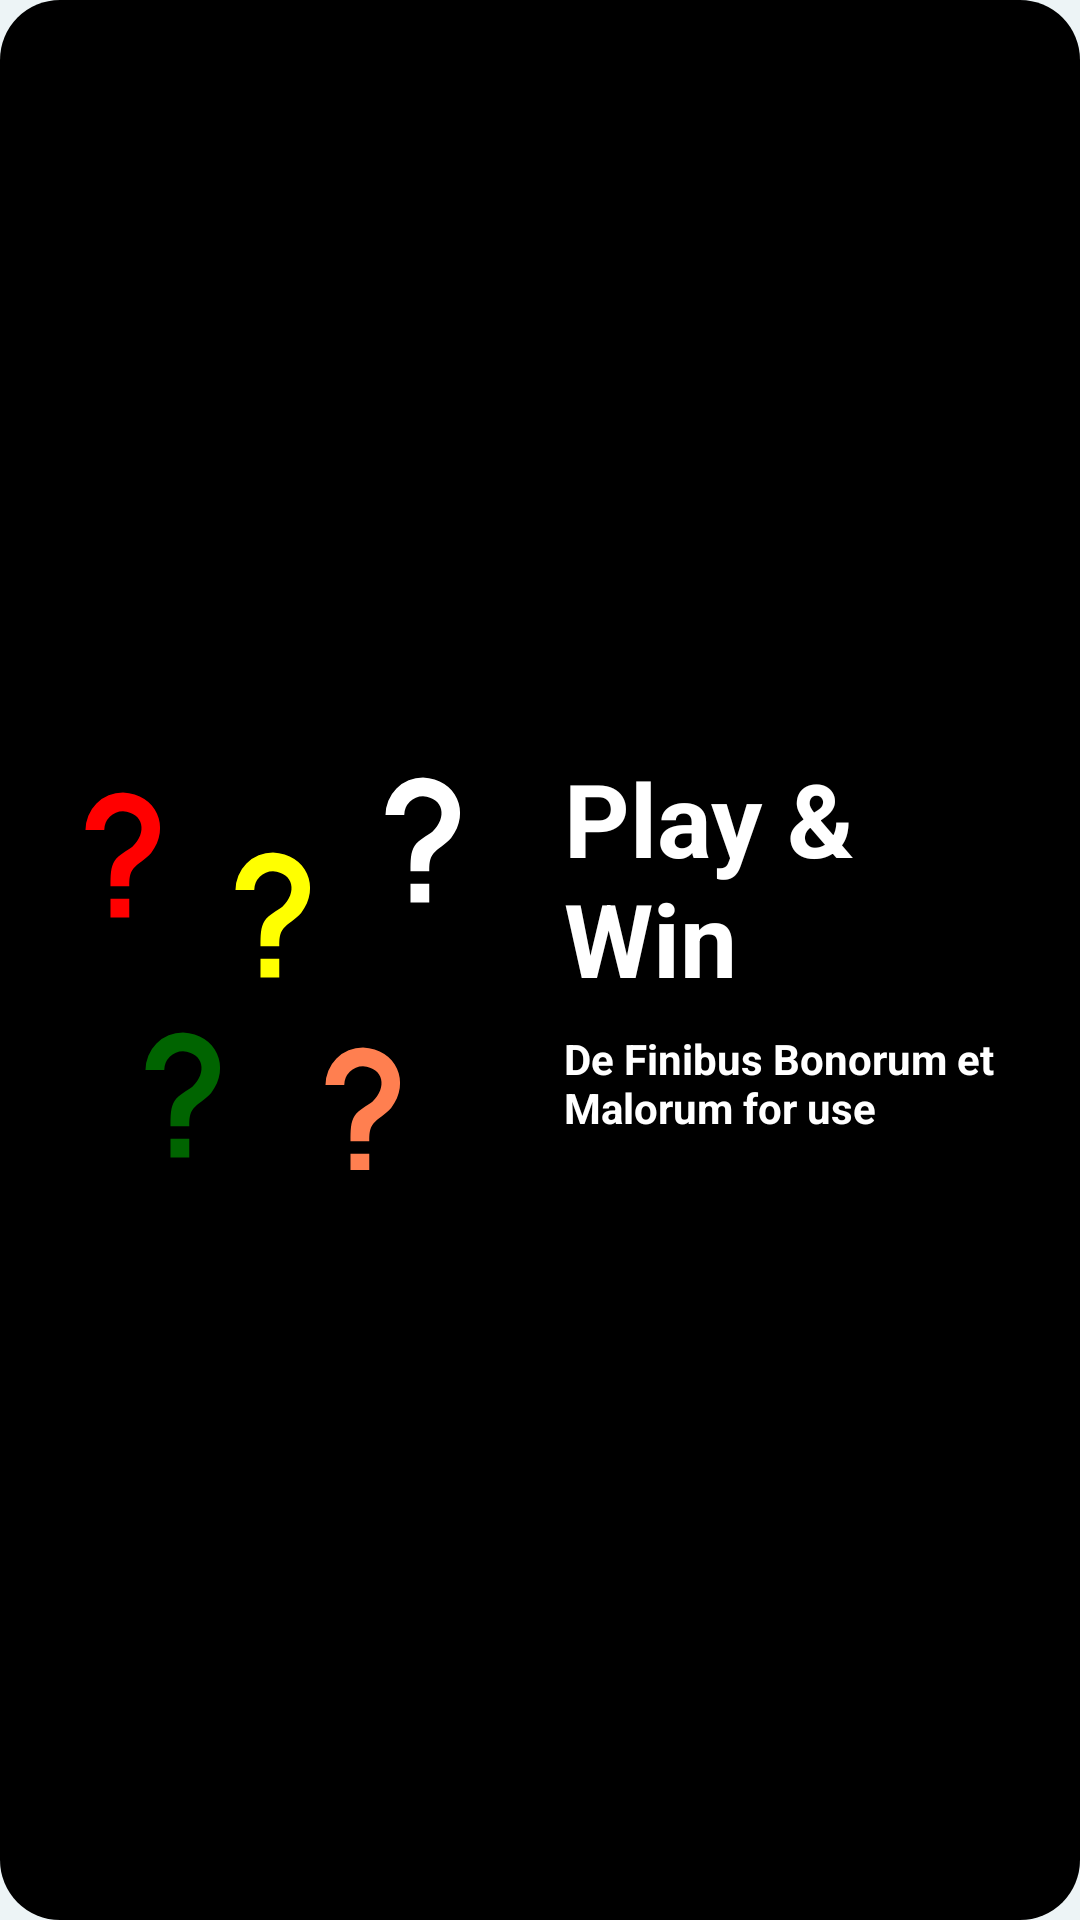

Locate icon controls on the screen. Image size 1080 × 1920, boxes as (x1, y1, x2, y2).
question yellom: (235, 852, 310, 978)
